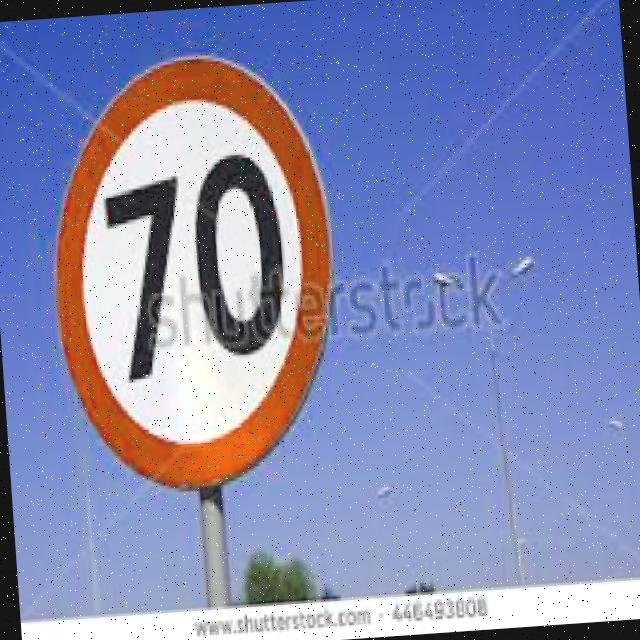Ograniczenie predkosci do 70: (51, 40, 397, 505)
